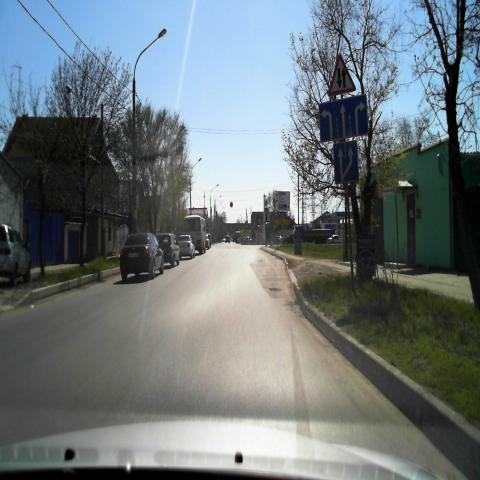1_21: (327, 52, 355, 93)
